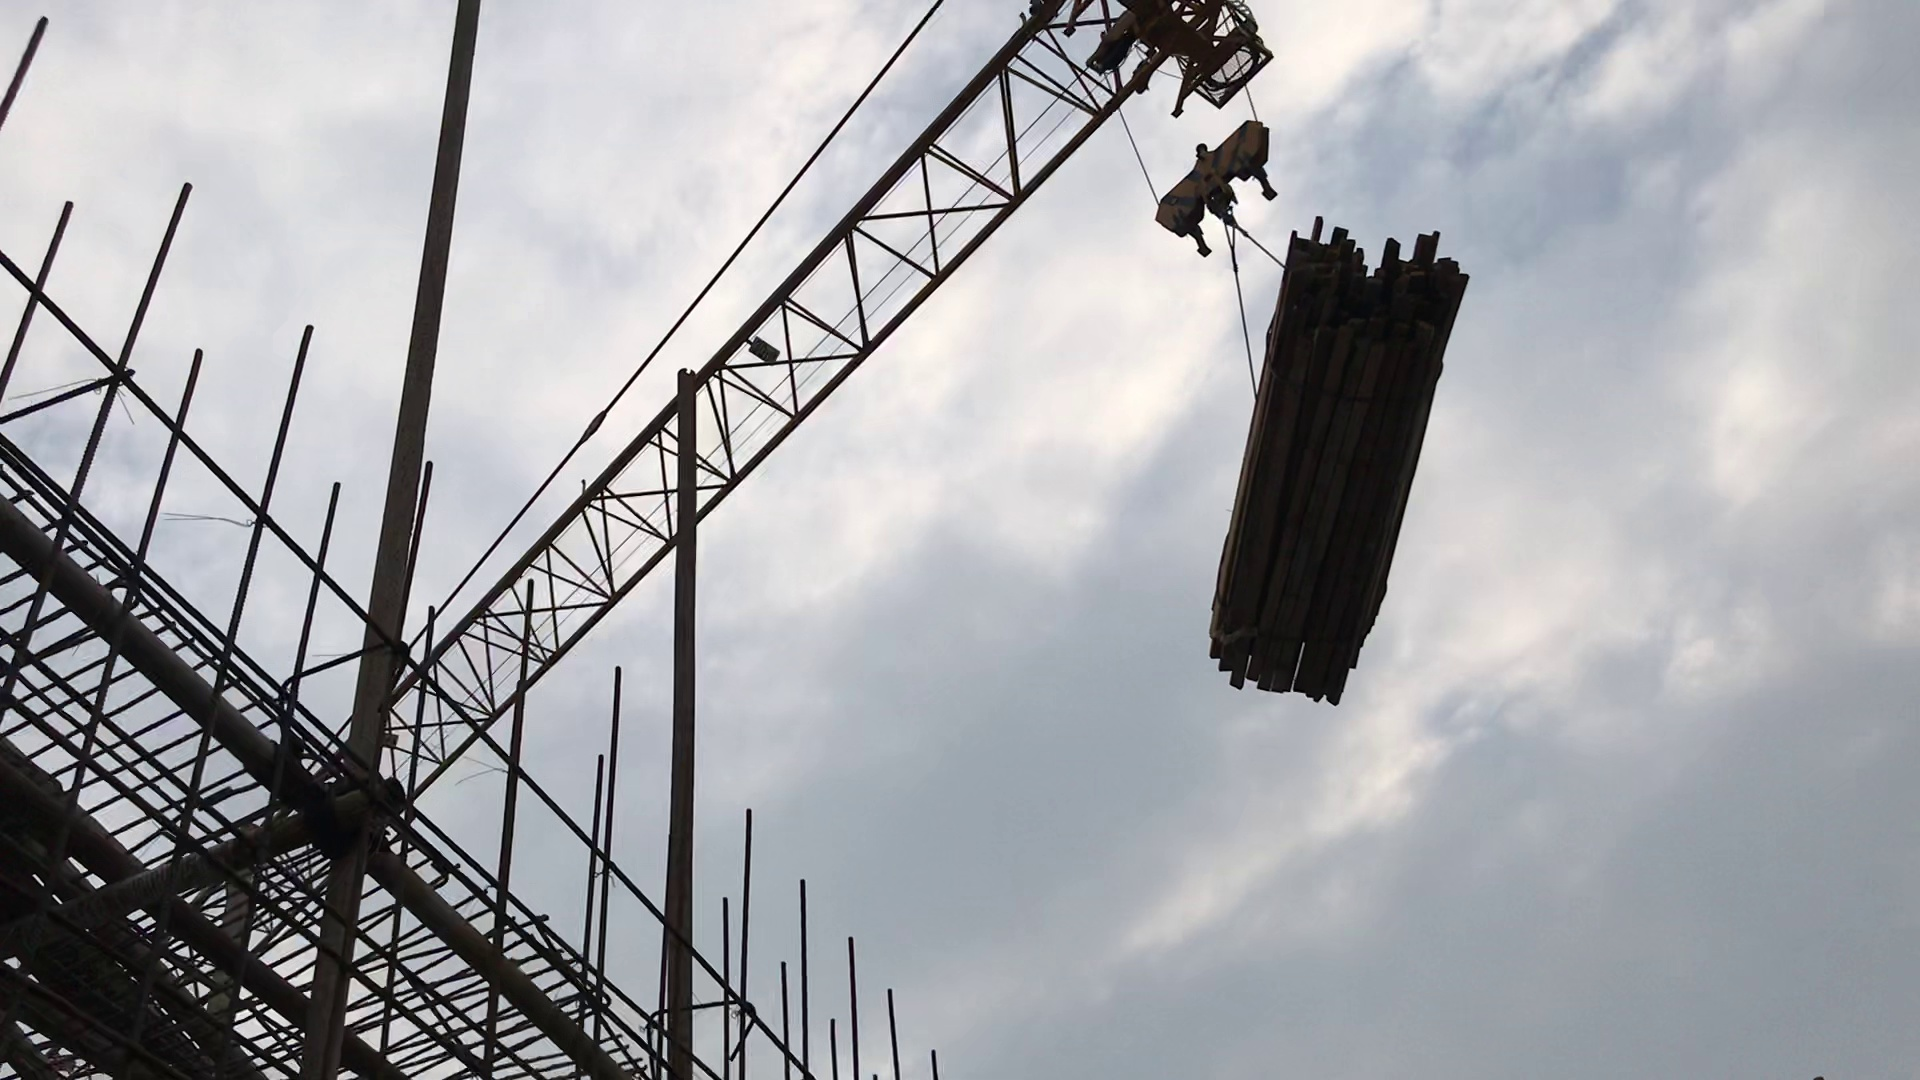hook: (1153, 108, 1288, 247)
wood: (1201, 223, 1481, 713)
